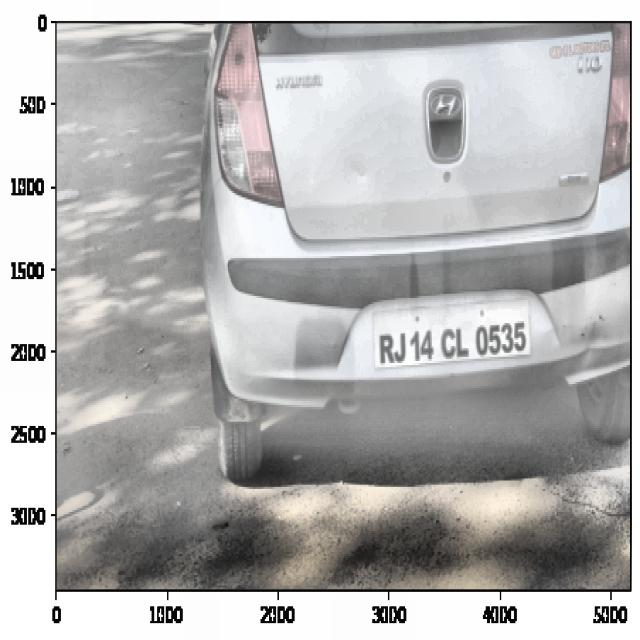license_plate: (376, 310, 530, 372)
